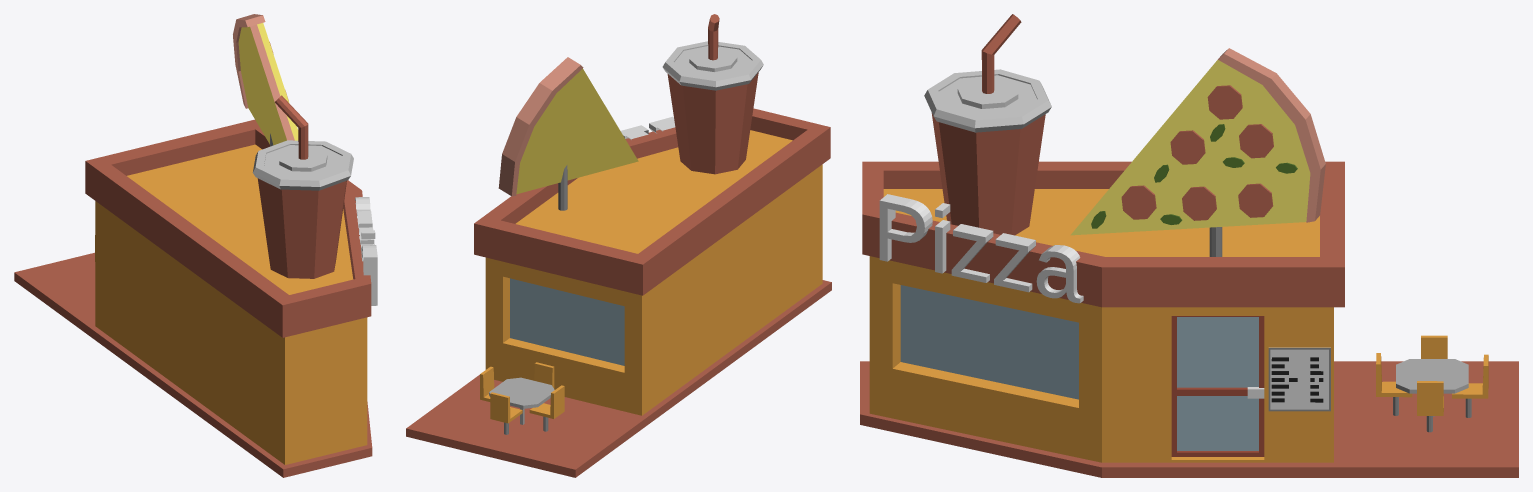
The model's file is pizza-mm.glb.
3 views of the same model, side by side, from view 1: azimuth 30°, elevation 25°; view 2: azimuth 150°, elevation 25°; view 3: azimuth 270°, elevation 25° (orthographic). The views are drawn at different scales.
Visible parts, largest first — view 1: pizza-mm; view 2: pizza-mm; view 3: pizza-mm.
Part boxes in pixels (box(x1,y1,x2,y2)): pizza-mm: box(14, 14, 377, 477); pizza-mm: box(406, 14, 831, 477); pizza-mm: box(860, 14, 1518, 477).
Size of the model in its own units: 2.87 by 4.98 by 7.53.
1 material, 1 textured.
